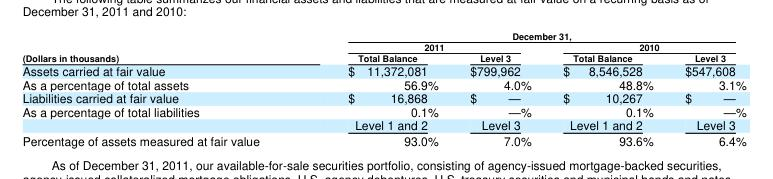table: (21, 29, 745, 148)
table column: (21, 29, 303, 148), (303, 29, 453, 148), (546, 29, 668, 148), (453, 29, 546, 148), (668, 29, 745, 148)
table column header: (21, 29, 745, 63)
table row: (21, 132, 745, 148), (21, 117, 745, 132), (21, 63, 745, 77), (21, 90, 745, 104), (21, 77, 745, 90), (21, 104, 745, 117), (21, 29, 745, 41), (21, 41, 745, 52), (21, 52, 745, 63)
table spanning cell: (21, 29, 303, 63), (303, 29, 745, 41), (303, 41, 546, 52), (546, 41, 745, 52)
